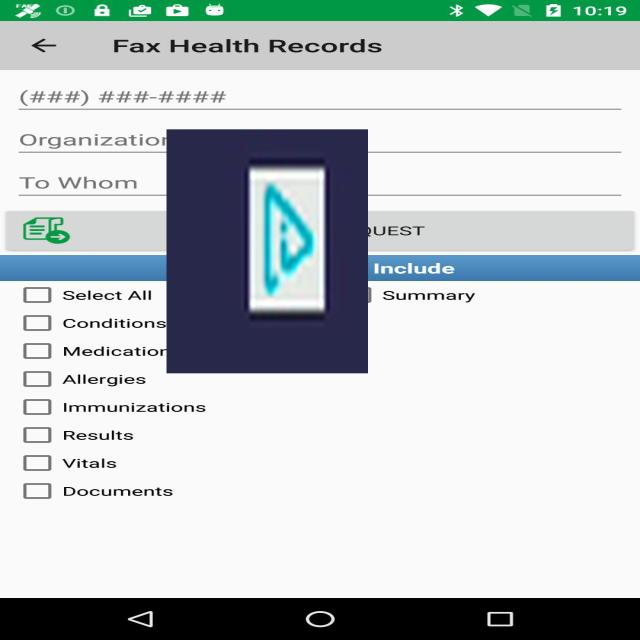sneaking: (167, 130, 368, 373)
